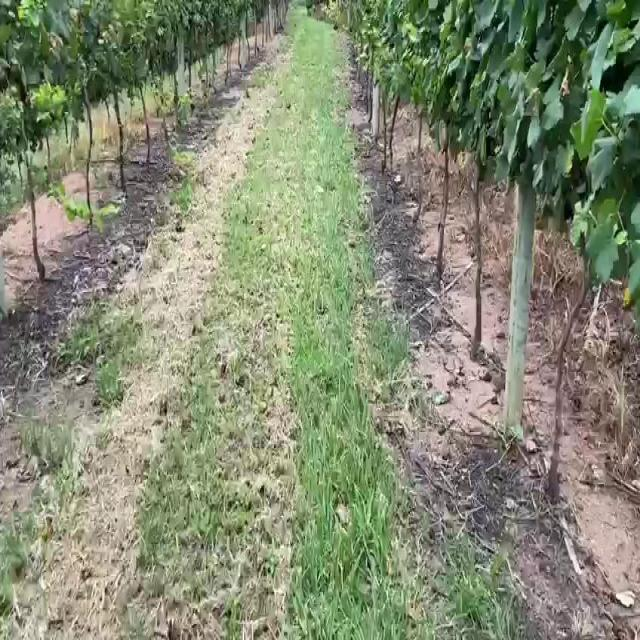tree trunk: (505, 177, 535, 436), (505, 180, 535, 436)
